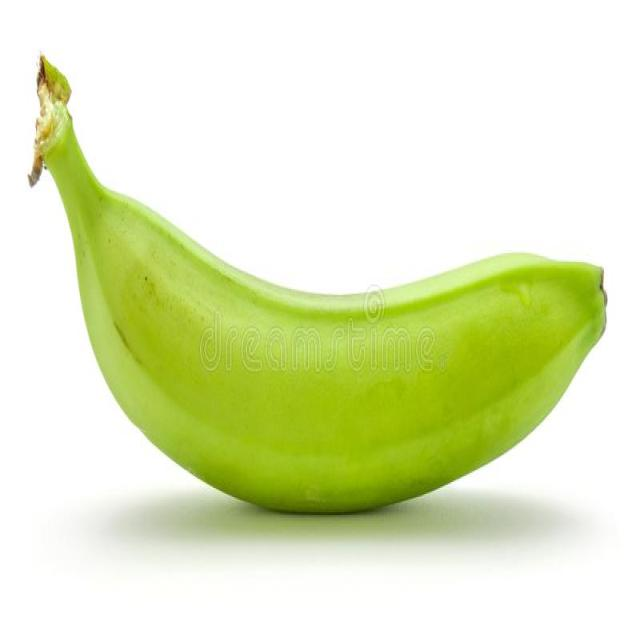non_orange: (31, 56, 611, 524)
